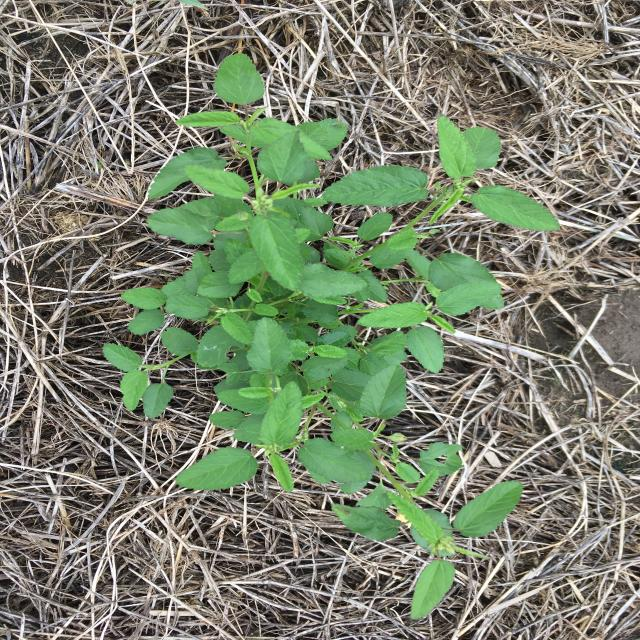PricklySida: (101, 53, 562, 620)
